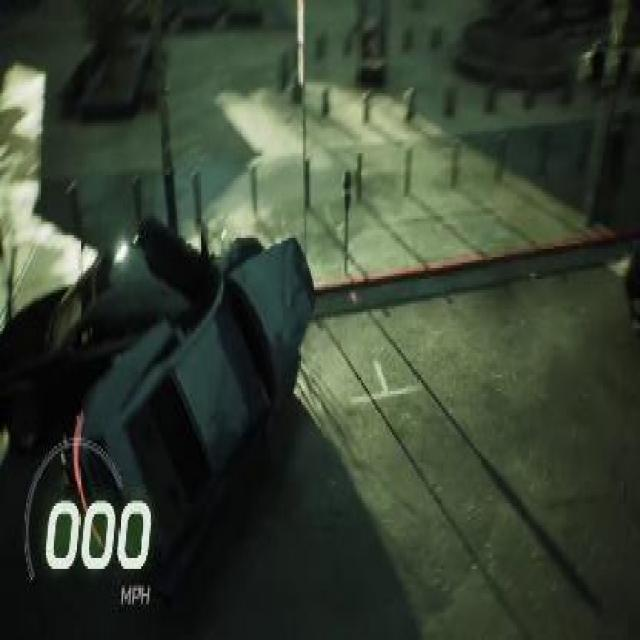accident: (23, 219, 319, 580)
